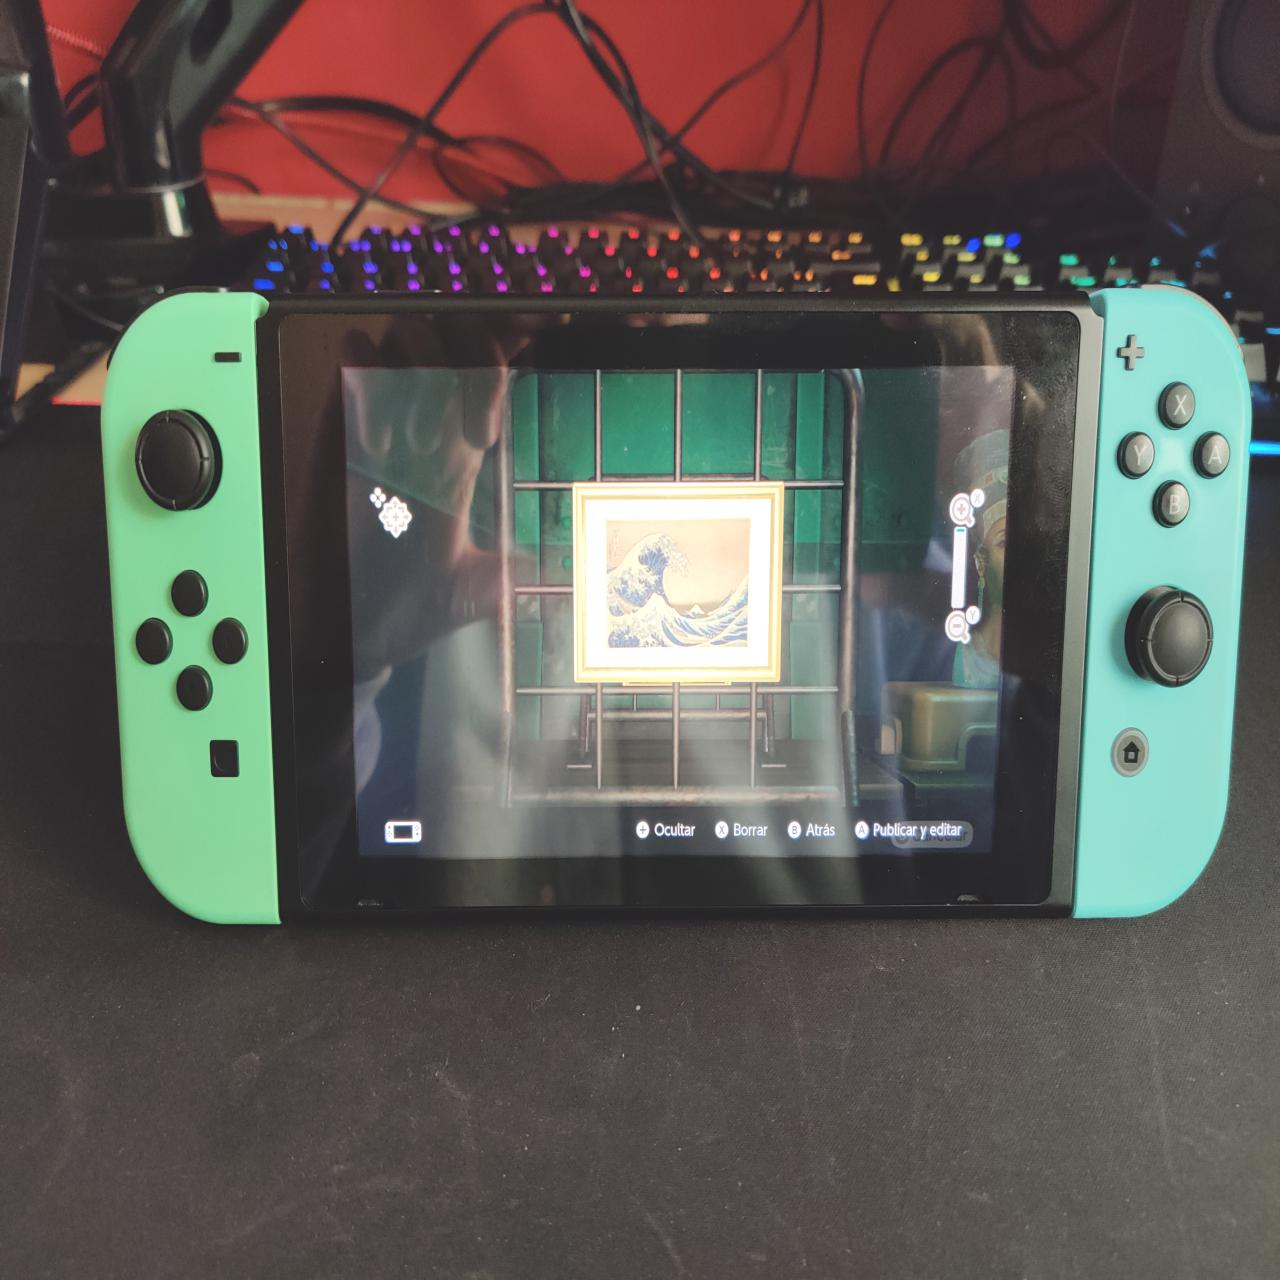Kanagawa: (607, 522, 753, 645)
